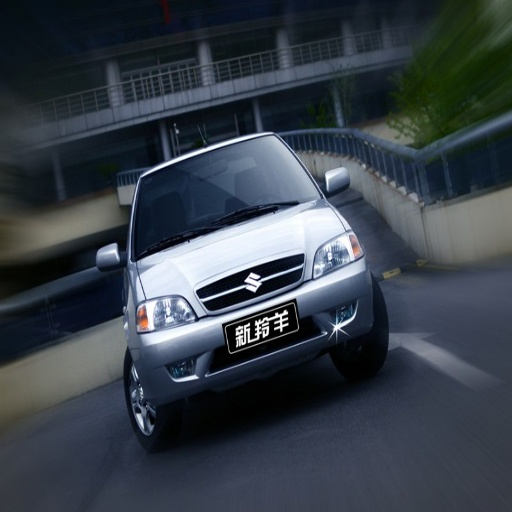front_bumper: (133, 250, 373, 398)
front_right_light: (135, 296, 196, 329)
hood: (138, 201, 345, 313)
